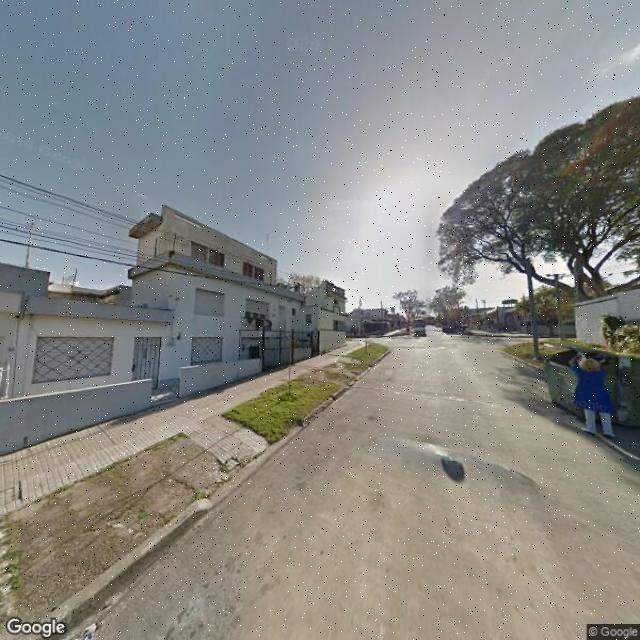garbage container: (536, 334, 640, 449)
